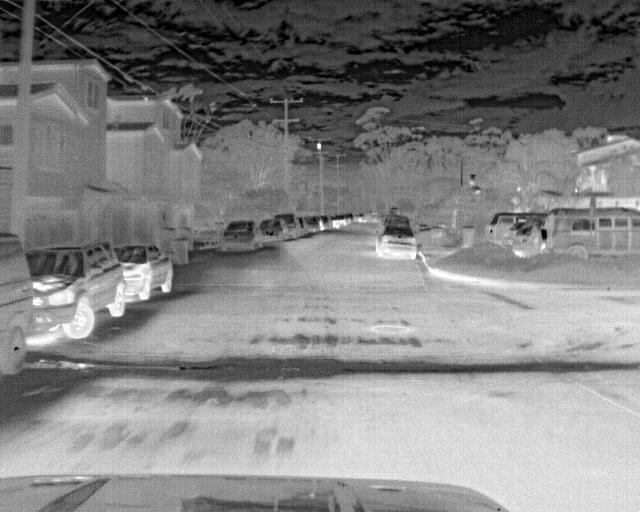car: (27, 239, 127, 338), (544, 204, 639, 264), (1, 229, 35, 377), (117, 244, 177, 302), (488, 212, 548, 242), (221, 219, 267, 254), (374, 230, 417, 261), (511, 220, 546, 257), (499, 221, 525, 250), (278, 216, 309, 239), (254, 221, 280, 245), (381, 214, 411, 229), (329, 213, 348, 227), (306, 217, 321, 234), (317, 214, 332, 231)
